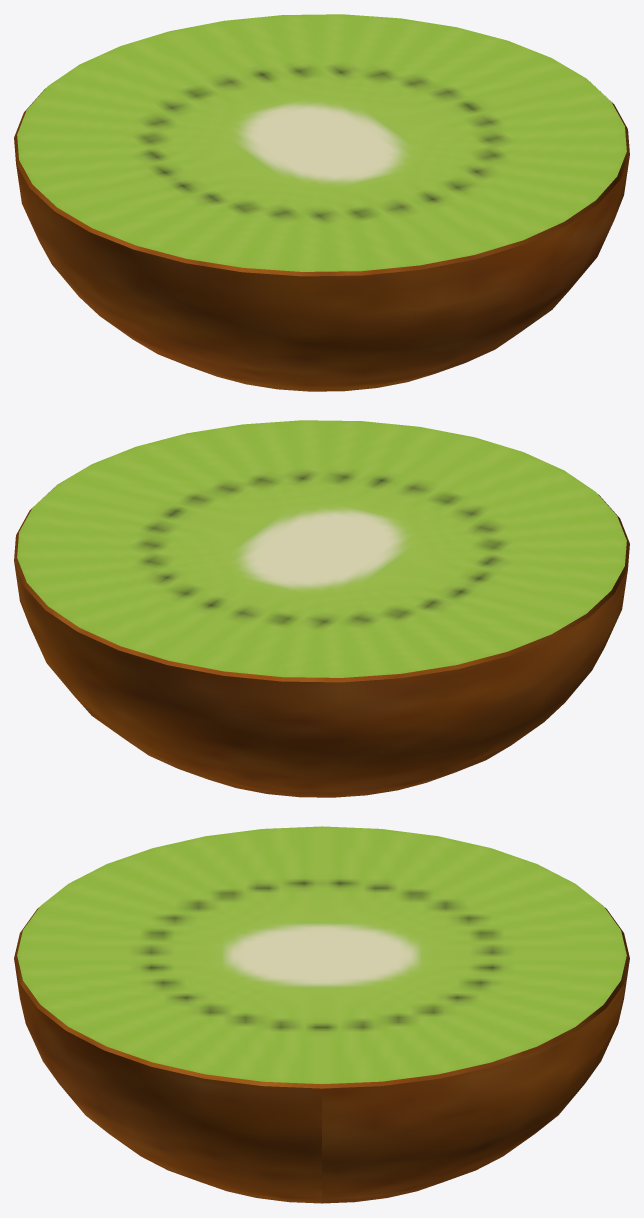
Rendered from NP_Kiwi_CutHalf.fbx.
The picture shows the model from 3 angles, top to bottom: view 1: azimuth 30°, elevation 25°; view 2: azimuth 150°, elevation 25°; view 3: azimuth 270°, elevation 25°; orthographic projection.
Parts seen in each view (by area): view 1: NP_Kiwi_CutHalf.001; view 2: NP_Kiwi_CutHalf.001; view 3: NP_Kiwi_CutHalf.001.
Boxes of the visible parts, box(x1,y1,x2,y2) form: NP_Kiwi_CutHalf.001: box(14, 14, 629, 391); NP_Kiwi_CutHalf.001: box(14, 420, 629, 797); NP_Kiwi_CutHalf.001: box(14, 826, 629, 1203).
Bounding box in the file's own units: 18 × 6.8 × 18.
